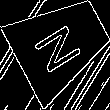N_NE: (32, 14, 90, 74)
